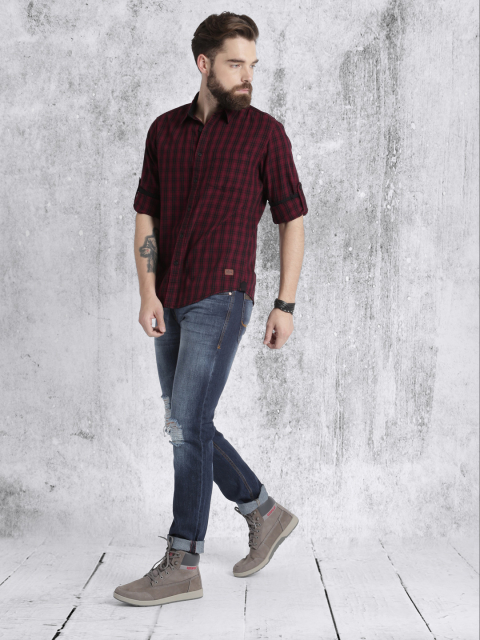jeans: (145, 302, 268, 552)
shirt: (134, 94, 309, 299)
